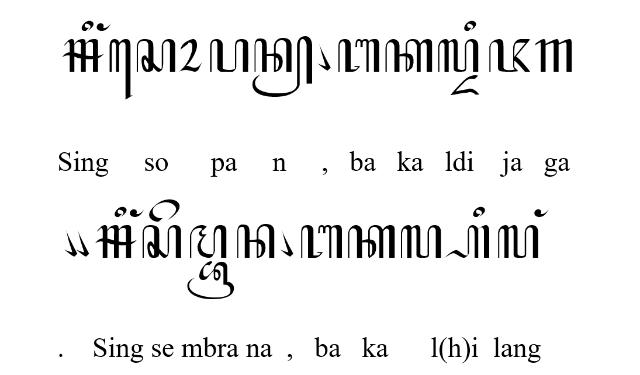-n: (252, 36, 312, 96)
S: (63, 38, 104, 72), (95, 225, 137, 258)
_br: (188, 262, 235, 300)
_d: (450, 74, 478, 96)
_h: (444, 225, 490, 259)
b: (338, 38, 379, 72), (300, 225, 342, 258)
e: (148, 199, 180, 223)
e1: (110, 40, 132, 100)
g: (536, 38, 572, 72)
i: (115, 206, 127, 218), (82, 20, 94, 31), (464, 20, 476, 31), (473, 207, 485, 217)
j: (488, 38, 530, 72)
k: (348, 224, 396, 260), (385, 39, 431, 73)
kom: (280, 230, 294, 258), (318, 44, 330, 72), (64, 230, 76, 258), (77, 230, 89, 258)
l: (496, 225, 540, 259), (401, 225, 442, 259), (438, 38, 478, 72)
m: (189, 225, 227, 258)
ng: (97, 23, 111, 31), (130, 209, 144, 217), (535, 209, 549, 217)
o: (178, 38, 202, 72)
p: (210, 38, 248, 72)
s: (136, 40, 176, 73), (142, 225, 182, 258), (236, 224, 274, 258)
